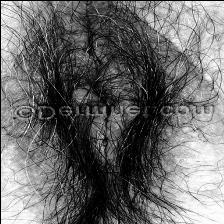Toxin: (2, 136, 62, 183), (151, 130, 202, 173)
